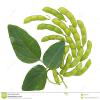Soyabean leaf: (7, 24, 42, 63), (21, 64, 47, 92), (43, 40, 66, 71)
